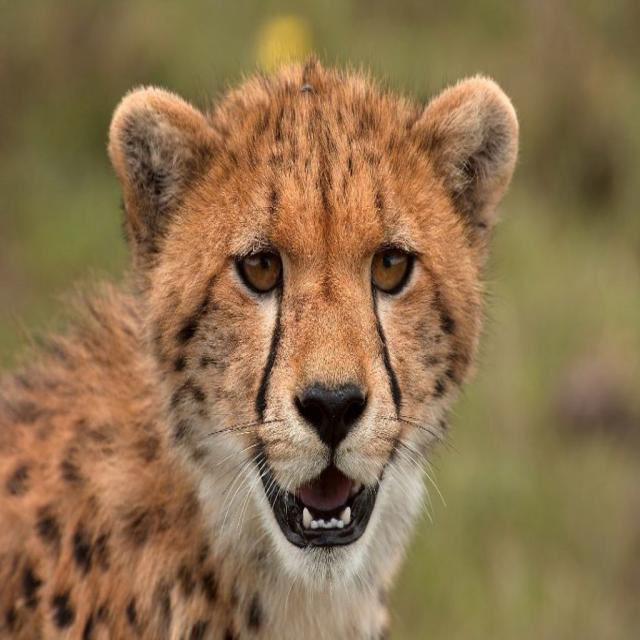Cheetah: (0, 50, 520, 640)
